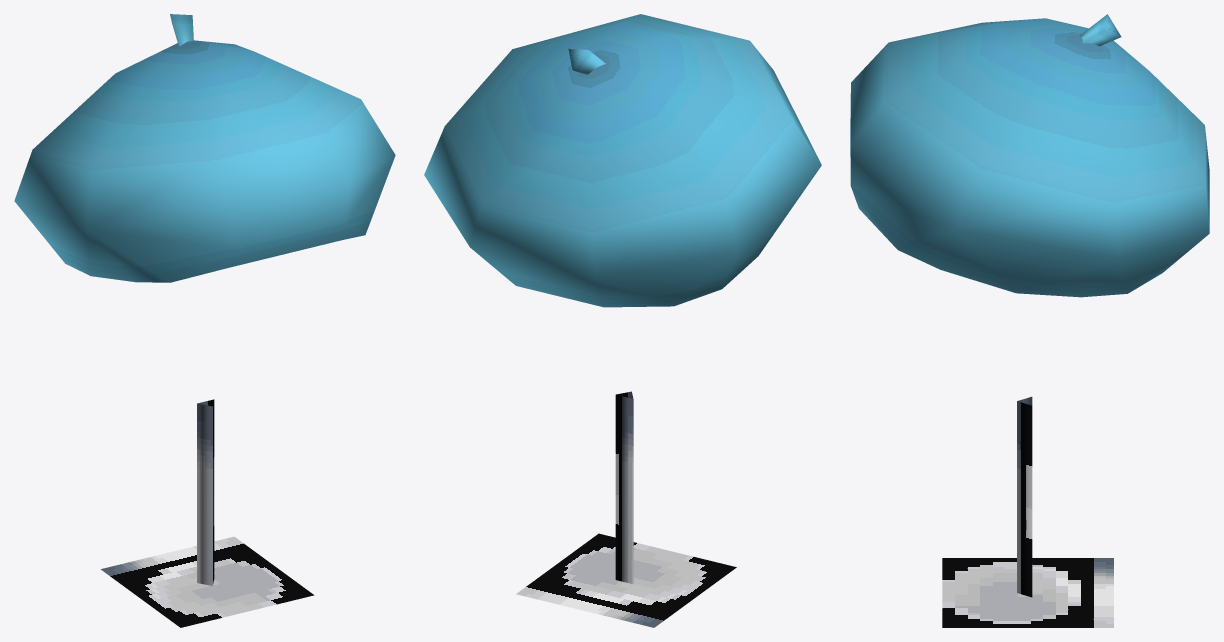
3 renders of one model, left to right at view 1: azimuth 30°, elevation 25°; view 2: azimuth 150°, elevation 25°; view 3: azimuth 270°, elevation 25°, orthographic. The views are drawn at different scales.
Visible parts, largest first — view 1: 2951head111_c; view 2: 2951head111_c; view 3: 2951head111_c.
Part boxes in pixels (x1,y1,x2,y2): 2951head111_c: [14, 14, 395, 627]; 2951head111_c: [424, 14, 821, 627]; 2951head111_c: [850, 14, 1209, 627].
Bounding box in the file's own units: 1.07 × 1.79 × 1.
2 materials, 2 textured.
